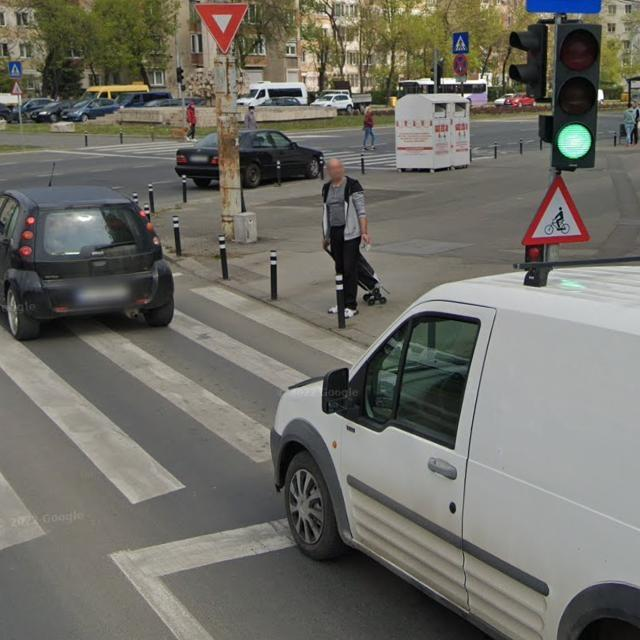forb_waiting: (453, 54, 468, 76)
info_crosswalk: (452, 32, 470, 55), (9, 60, 23, 79)
prio_give_way: (193, 4, 248, 53)
